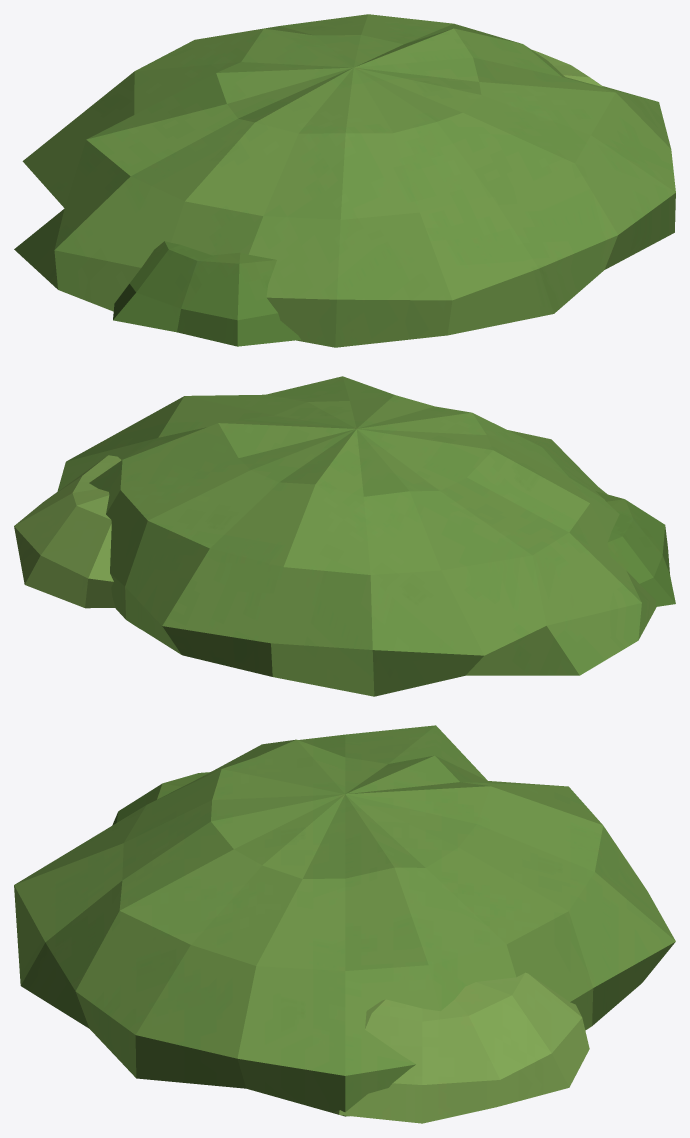
File: hill_01.glb
3 views of the same model, one above another, from view 1: azimuth 30°, elevation 25°; view 2: azimuth 150°, elevation 25°; view 3: azimuth 270°, elevation 25° (orthographic). The views are drawn at different scales.
Parts seen in each view (by area): view 1: hill_01; view 2: hill_01; view 3: hill_01.
Part boxes in pixels (x1,y1,x2,y2): hill_01: (14, 14, 675, 347); hill_01: (14, 376, 675, 696); hill_01: (14, 725, 675, 1123).
Size of the model in its own units: 12.02 by 3.19 by 10.29.
6 materials, 6 textured.
